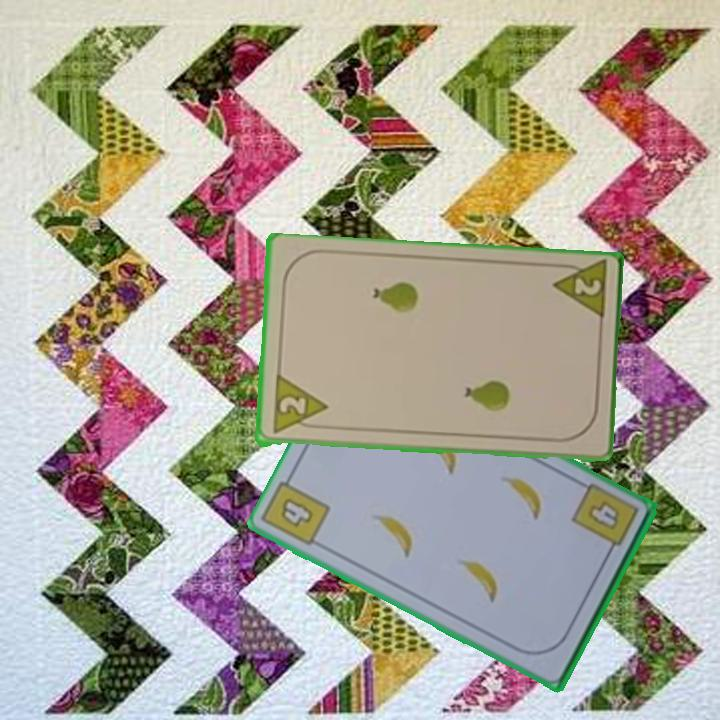2p: (548, 260, 610, 325), (269, 374, 329, 437)
4b: (568, 479, 642, 561), (276, 494, 316, 531)
